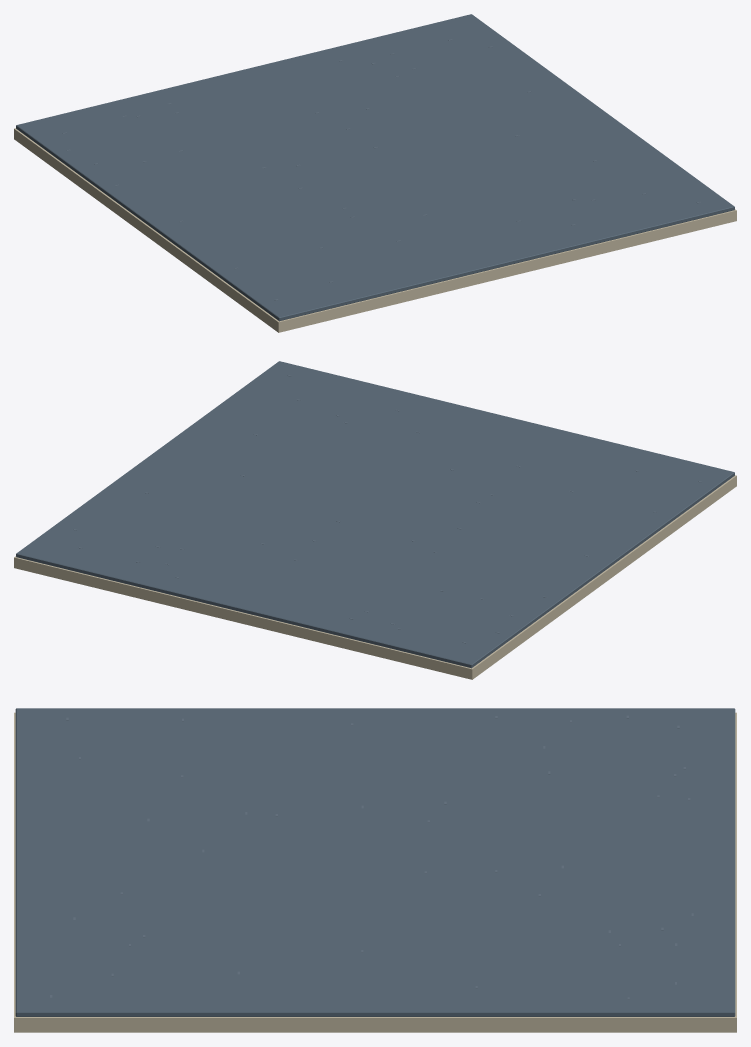
File: floor_tile.glb
3 views of the same model, one above another, from view 1: azimuth 30°, elevation 25°; view 2: azimuth 150°, elevation 25°; view 3: azimuth 270°, elevation 25° (orthographic). The views are drawn at different scales.
Parts seen in each view (by area): view 1: floor_tile__floor, floor_tile__tile_grout; view 2: floor_tile__floor, floor_tile__tile_grout; view 3: floor_tile__floor, floor_tile__tile_grout.
Part boxes in pixels (x1,y1,x2,y2): floor_tile__floor: (16, 14, 734, 321); floor_tile__tile_grout: (14, 128, 736, 332); floor_tile__floor: (16, 361, 734, 668); floor_tile__tile_grout: (14, 475, 736, 679); floor_tile__floor: (15, 708, 735, 1016); floor_tile__tile_grout: (14, 712, 736, 1032).
Size of the model in its own units: 1 by 0.0304 by 1.
